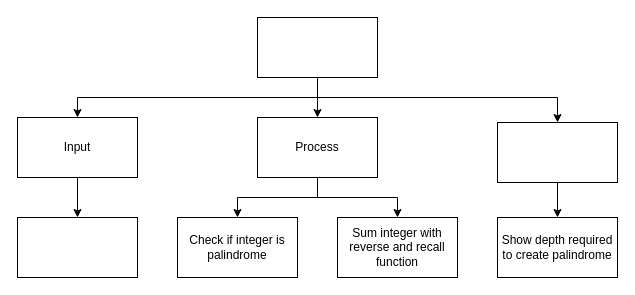
The diagram is 635 pixels wide and 295 high, and some of its shapes have lost their labels. Here are the shapes that lost their labels. From the top down, the centre of each, then its label:
At (317,47): "PalindromeDepth".
At (557,152): "Output".
At (77,247): "Get an integer between 10 and 99 inclusive".
